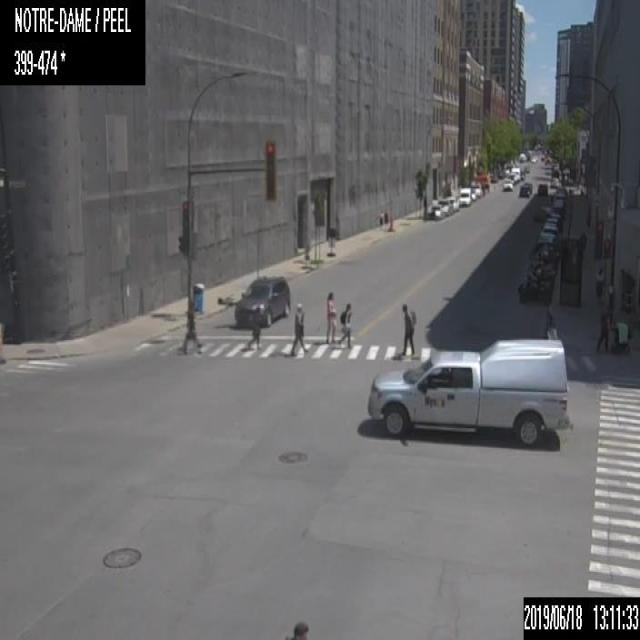pedestrian: (594, 302, 632, 354), (398, 300, 417, 357), (291, 300, 309, 355), (182, 302, 199, 353), (246, 304, 264, 349), (337, 301, 352, 348), (324, 291, 336, 349), (542, 305, 558, 336), (595, 267, 604, 296), (376, 210, 383, 230), (383, 208, 388, 230)
vehicle: (364, 334, 569, 450), (232, 272, 291, 328), (518, 278, 552, 305), (530, 242, 559, 262), (529, 254, 558, 271), (526, 268, 555, 285), (540, 221, 558, 241), (428, 203, 443, 220), (547, 212, 561, 230), (536, 182, 548, 203), (458, 186, 471, 205), (436, 198, 451, 214), (444, 195, 458, 210), (546, 216, 559, 229), (470, 181, 481, 196), (518, 184, 529, 197), (502, 177, 512, 191), (510, 166, 520, 180), (522, 180, 532, 193), (508, 171, 516, 183), (470, 188, 476, 201)
